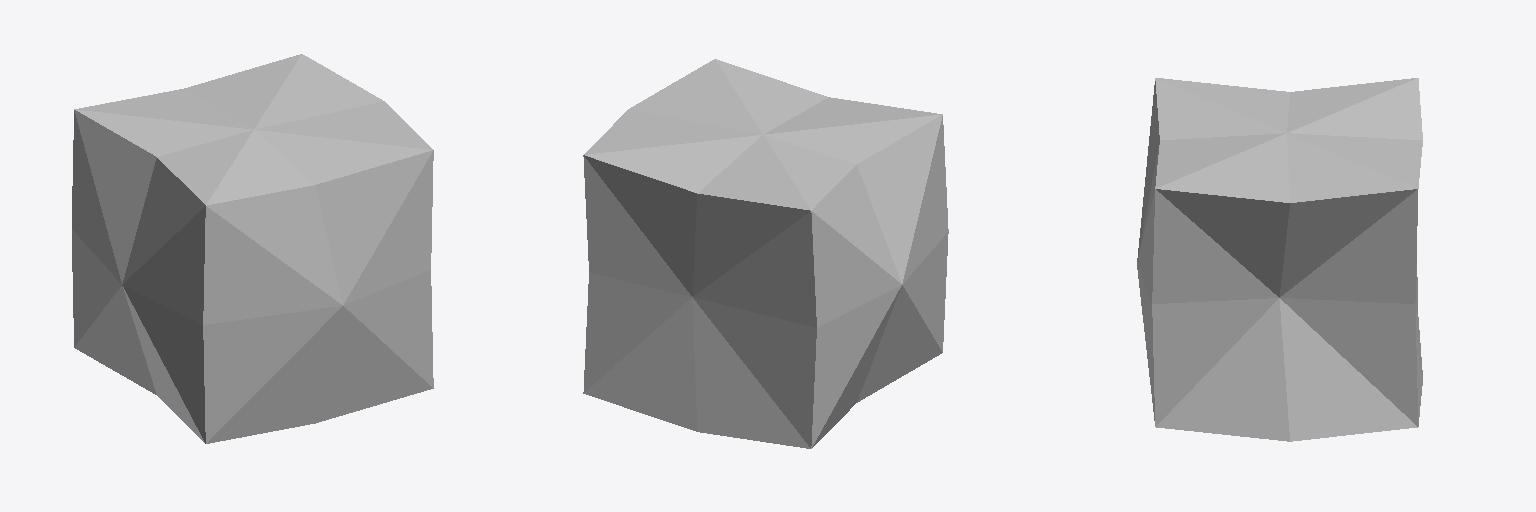
Rendered from debris.obj.
The picture shows the model from 3 angles: view 1: azimuth 30°, elevation 25°; view 2: azimuth 150°, elevation 25°; view 3: azimuth 270°, elevation 25°; orthographic projection.
Parts seen in each view (by area): view 1: Cube; view 2: Cube; view 3: Cube.
Part boxes in pixels (x1,y1,x2,y2): Cube: (72,54,433,443); Cube: (583,59,948,448); Cube: (1137,78,1422,441).
Bounding box in the file's own units: 1.18 × 1.03 × 1.09.